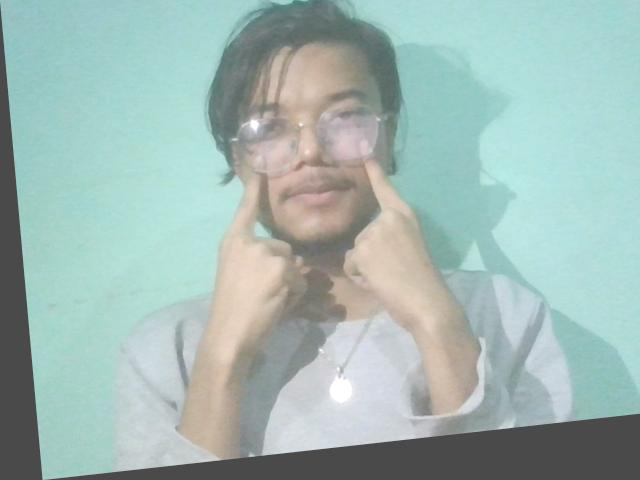Cry: (162, 136, 474, 387)
